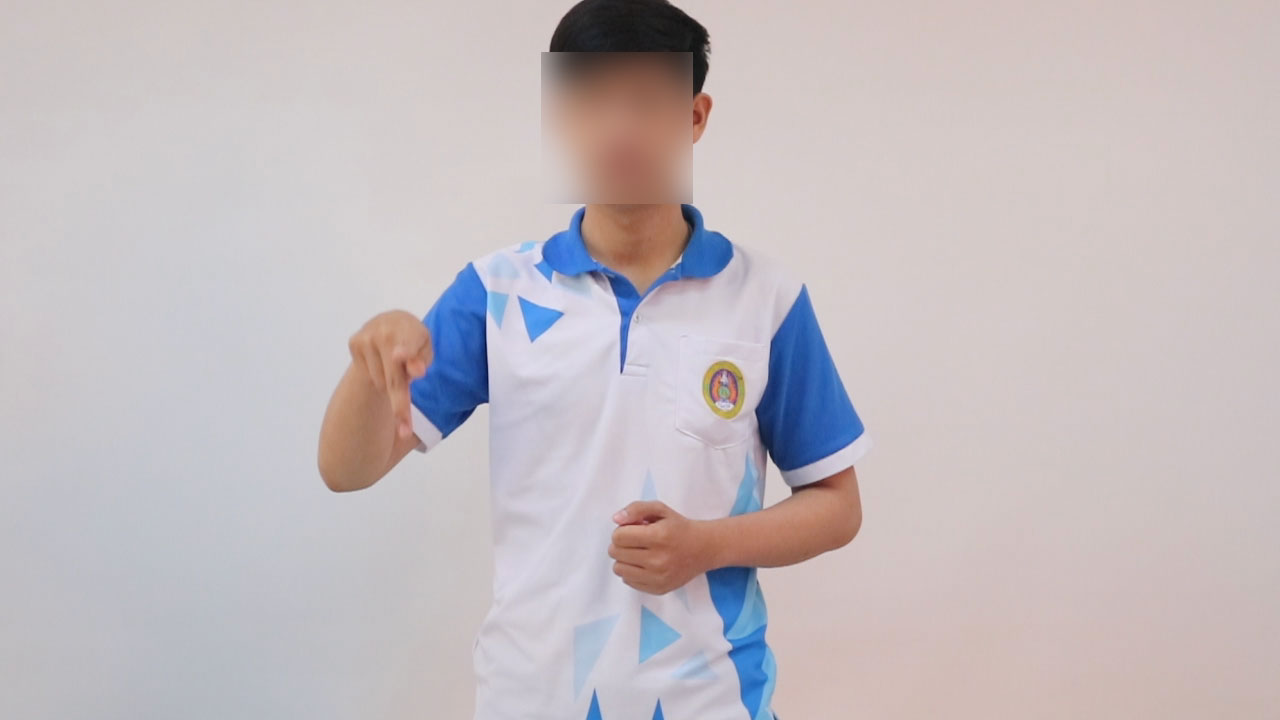por: (349, 302, 442, 445)
